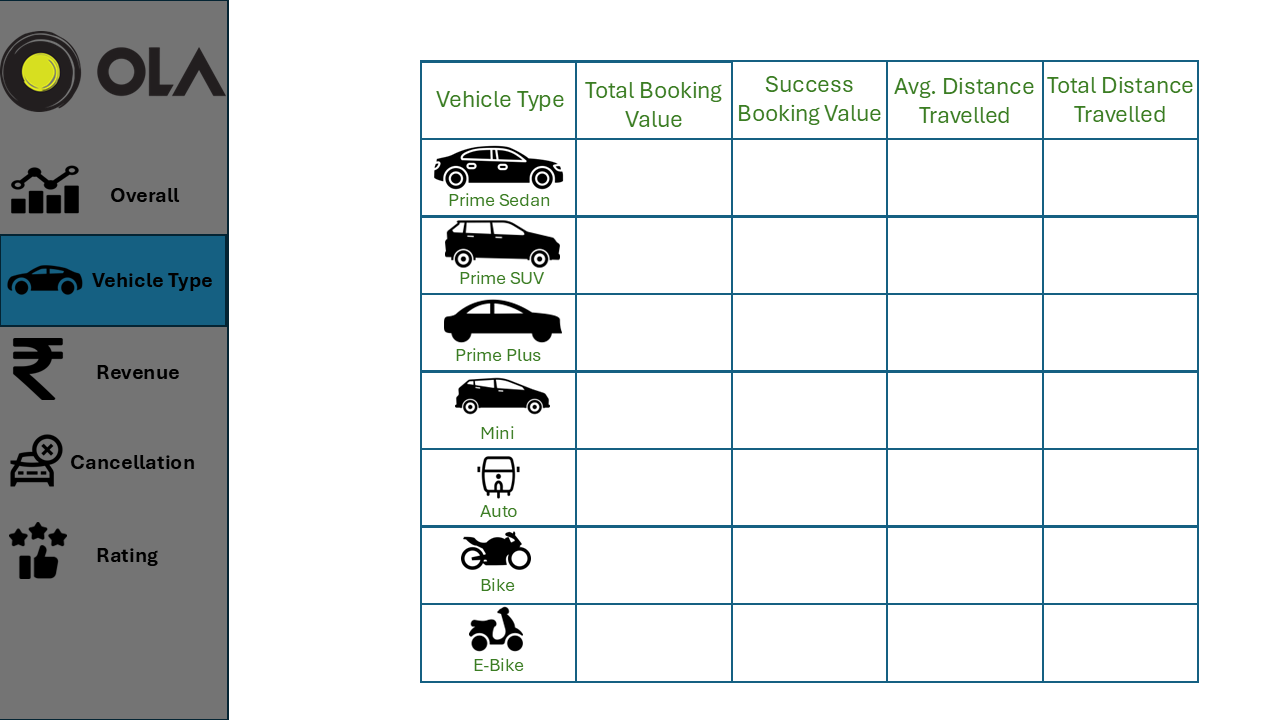

The page's visual inventory and layout, read from the dashboard file:
{"tool":"powerbi","page":{"name":"Vehicle Type","canvas":[1280,720],"ordinal":1},"visuals":[{"type":"actionButton","box":[0,146.8,229.2,86.4],"z":0},{"type":"actionButton","box":[0,322.5,229.2,86.4],"z":1000},{"type":"actionButton","box":[0,408.9,229.2,86.4],"z":2000},{"type":"actionButton","box":[0,495.4,229.2,86.4],"z":3000},{"type":"card","title":"Total Booking Value","fields":{"Values":["Sum(Cleaned_ola_booking_data (2).Booking_Value)"]},"box":[575.4,138.9,156.9,77.1],"z":4000},{"type":"card","title":"Total Booking Value","fields":{"Values":["Sum(Cleaned_ola_booking_data (2).Booking_Value)"]},"box":[575,216.2,157.5,77.5],"z":5000},{"type":"card","title":"Total Booking Value","fields":{"Values":["Sum(Cleaned_ola_booking_data (2).Booking_Value)"]},"box":[575,293.8,157.5,77.5],"z":6000},{"type":"card","title":"Total Booking Value","fields":{"Values":["Sum(Cleaned_ola_booking_data (2).Booking_Value)"]},"box":[575,371.2,157.5,77.5],"z":7000},{"type":"card","title":"Total Booking Value","fields":{"Values":["Sum(Cleaned_ola_booking_data (2).Booking_Value)"]},"box":[575,448.8,157.5,77.5],"z":8000},{"type":"card","title":"Total Booking Value","fields":{"Values":["Sum(Cleaned_ola_booking_data (2).Booking_Value)"]},"box":[575,526.2,157.5,77.5],"z":9000},{"type":"card","title":"Total Booking Value","fields":{"Values":["Sum(Cleaned_ola_booking_data (2).Booking_Value)"]},"box":[575,603.8,157.5,77.5],"z":10000},{"type":"card","title":"Total Booking Value","fields":{"Values":["Sum(Cleaned_ola_booking_data (2).Booking_Value)"]},"box":[732.5,138.8,157.5,77.5],"z":11000},{"type":"card","title":"Total Booking Value","fields":{"Values":["Sum(Cleaned_ola_booking_data (2).Booking_Value)"]},"box":[731.2,216.2,157.5,77.5],"z":12000},{"type":"card","title":"Total Booking Value","fields":{"Values":["Sum(Cleaned_ola_booking_data (2).Booking_Value)"]},"box":[732.5,293.8,157.5,77.5],"z":13000},{"type":"card","title":"Total Booking Value","fields":{"Values":["Sum(Cleaned_ola_booking_data (2).Booking_Value)"]},"box":[732.5,371.2,157.5,77.5],"z":14000},{"type":"card","title":"Total Booking Value","fields":{"Values":["Sum(Cleaned_ola_booking_data (2).Booking_Value)"]},"box":[732.5,448.8,157.5,77.5],"z":15000},{"type":"card","title":"Total Booking Value","fields":{"Values":["Sum(Cleaned_ola_booking_data (2).Booking_Value)"]},"box":[731.2,526.2,157.5,77.5],"z":16000},{"type":"card","title":"Total Booking Value","fields":{"Values":["Sum(Cleaned_ola_booking_data (2).Booking_Value)"]},"box":[731.2,603.8,157.5,77.5],"z":17000},{"type":"card","title":"Total Booking Value","fields":{"Values":["Avg(Cleaned_ola_booking_data (2).Ride_Distance)"]},"box":[888.8,138.8,155,77.5],"z":18000},{"type":"card","title":"Total Booking Value","fields":{"Values":["Avg(Cleaned_ola_booking_data (2).Ride_Distance)"]},"box":[888.8,216.2,155,77.5],"z":19000},{"type":"card","title":"Total Booking Value","fields":{"Values":["Avg(Cleaned_ola_booking_data (2).Ride_Distance)"]},"box":[888.8,293.8,155,77.5],"z":20000},{"type":"card","title":"Total Booking Value","fields":{"Values":["Cleaned_ola_booking_data (2).Measure"]},"box":[888.8,366.2,155,77.5],"z":21000},{"type":"card","title":"Total Booking Value","fields":{"Values":["Cleaned_ola_booking_data (2).Measure"]},"box":[888.8,448.8,155,77.5],"z":22000},{"type":"card","title":"Total Booking Value","fields":{"Values":["Cleaned_ola_booking_data (2).Measure"]},"box":[888.8,526.2,155,77.5],"z":23000},{"type":"card","title":"Total Booking Value","fields":{"Values":["Cleaned_ola_booking_data (2).Measure"]},"box":[888.8,603.8,155,77.5],"z":24000},{"type":"card","title":"Total Booking Value","fields":{"Values":["Sum(Cleaned_ola_booking_data (2).Ride_Distance)"]},"box":[1043.8,137.8,155,77.5],"z":25000},{"type":"card","title":"Total Booking Value","fields":{"Values":["Sum(Cleaned_ola_booking_data (2).Ride_Distance)"]},"box":[1043.8,215.3,155,77.5],"z":26000},{"type":"card","title":"Total Booking Value","fields":{"Values":["Sum(Cleaned_ola_booking_data (2).Ride_Distance)"]},"box":[1043.8,293.8,155,77.5],"z":28000},{"type":"card","title":"Total Booking Value","fields":{"Values":["Sum(Cleaned_ola_booking_data (2).Ride_Distance)"]},"box":[1043.8,370,155,77.5],"z":29000},{"type":"card","title":"Total Booking Value","fields":{"Values":["Sum(Cleaned_ola_booking_data (2).Ride_Distance)"]},"box":[1043.8,447.5,155,77.5],"z":30000},{"type":"card","title":"Total Booking Value","fields":{"Values":["Sum(Cleaned_ola_booking_data (2).Ride_Distance)"]},"box":[1043.8,525,155,77.5],"z":31000},{"type":"card","title":"Total Booking Value","fields":{"Values":["Sum(Cleaned_ola_booking_data (2).Ride_Distance)"]},"box":[1043.8,602.5,155,77.5],"z":32000}]}

Visuals, with their boxes in screenshot pixels (x1, y1, x2, y2):
actionButton: select_region(7, 148, 233, 233)
actionButton: select_region(7, 321, 233, 407)
actionButton: select_region(7, 407, 233, 492)
actionButton: select_region(7, 492, 233, 577)
"Total Booking Value" card: select_region(574, 140, 729, 216)
"Total Booking Value" card: select_region(574, 217, 729, 293)
"Total Booking Value" card: select_region(574, 293, 729, 369)
"Total Booking Value" card: select_region(574, 369, 729, 446)
"Total Booking Value" card: select_region(574, 446, 729, 522)
"Total Booking Value" card: select_region(574, 522, 729, 599)
"Total Booking Value" card: select_region(574, 599, 729, 675)
"Total Booking Value" card: select_region(729, 140, 884, 217)
"Total Booking Value" card: select_region(728, 217, 883, 293)
"Total Booking Value" card: select_region(729, 293, 884, 369)
"Total Booking Value" card: select_region(729, 369, 884, 446)
"Total Booking Value" card: select_region(729, 446, 884, 522)
"Total Booking Value" card: select_region(728, 522, 883, 599)
"Total Booking Value" card: select_region(728, 599, 883, 675)
"Total Booking Value" card: select_region(883, 140, 1036, 217)
"Total Booking Value" card: select_region(883, 217, 1036, 293)
"Total Booking Value" card: select_region(883, 293, 1036, 369)
"Total Booking Value" card: select_region(883, 364, 1036, 441)
"Total Booking Value" card: select_region(883, 446, 1036, 522)
"Total Booking Value" card: select_region(883, 522, 1036, 599)
"Total Booking Value" card: select_region(883, 599, 1036, 675)
"Total Booking Value" card: select_region(1036, 139, 1189, 216)
"Total Booking Value" card: select_region(1036, 216, 1189, 292)
"Total Booking Value" card: select_region(1036, 293, 1189, 369)
"Total Booking Value" card: select_region(1036, 368, 1189, 445)
"Total Booking Value" card: select_region(1036, 445, 1189, 521)
"Total Booking Value" card: select_region(1036, 521, 1189, 598)
"Total Booking Value" card: select_region(1036, 598, 1189, 674)
